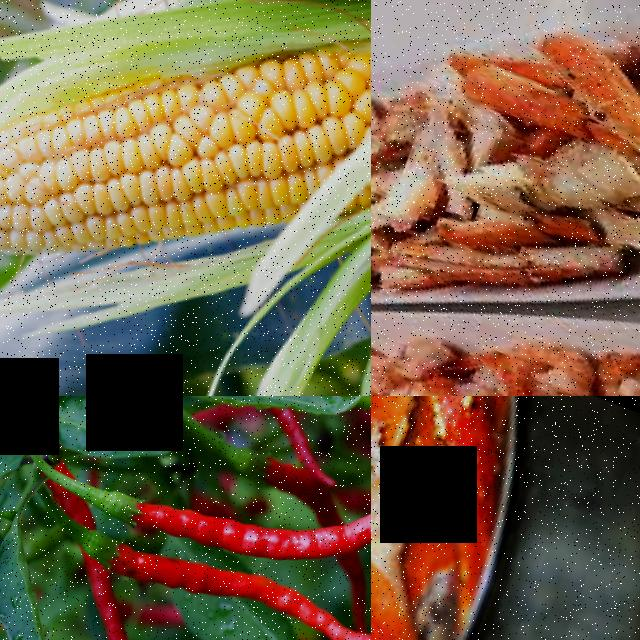chilli: (83, 516, 323, 640), (92, 465, 329, 585)
corn: (0, 0, 371, 380)
crab: (371, 396, 547, 640), (459, 0, 640, 201)
